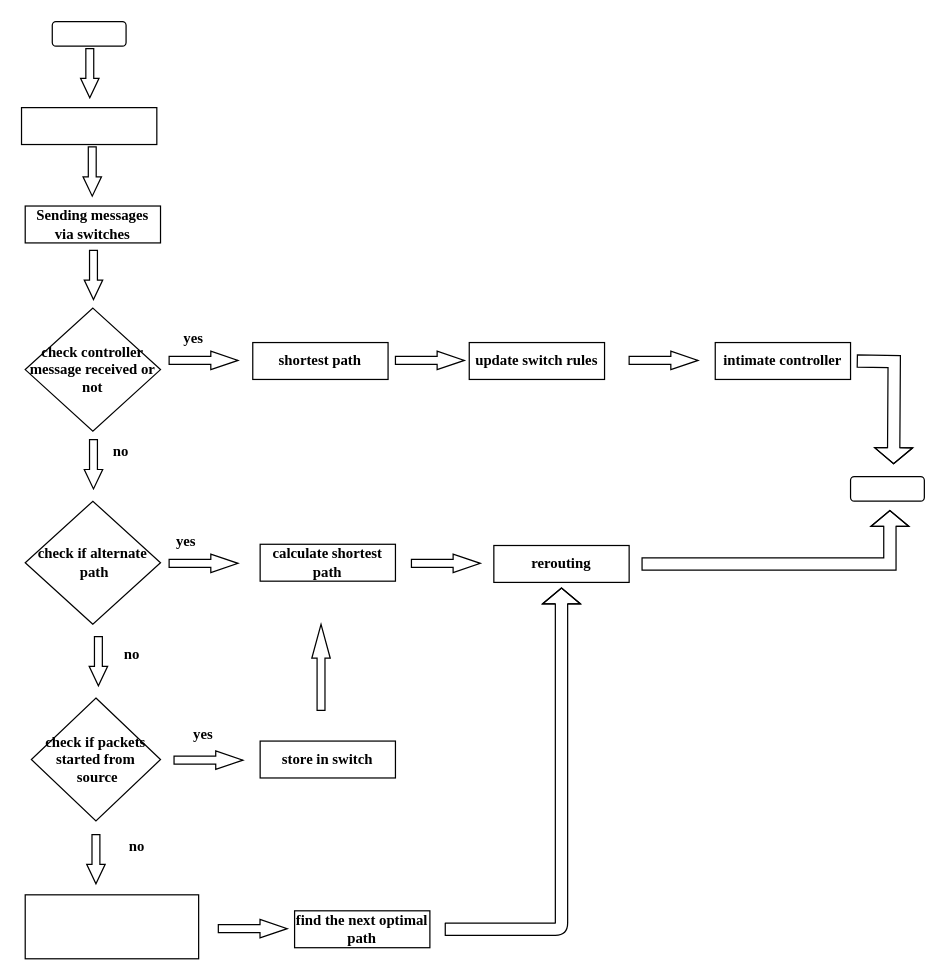
Some shapes in this 946 by 980 pixel diagram are drawn without their labels. Here are the shapes that lost their labels. From the top down, the centre of each, then its label:
point 88,33: start
point 88,125: Get source and destination host
point 886,488: end
point 111,926: intimate the controller to stop the packets which are not started from source
